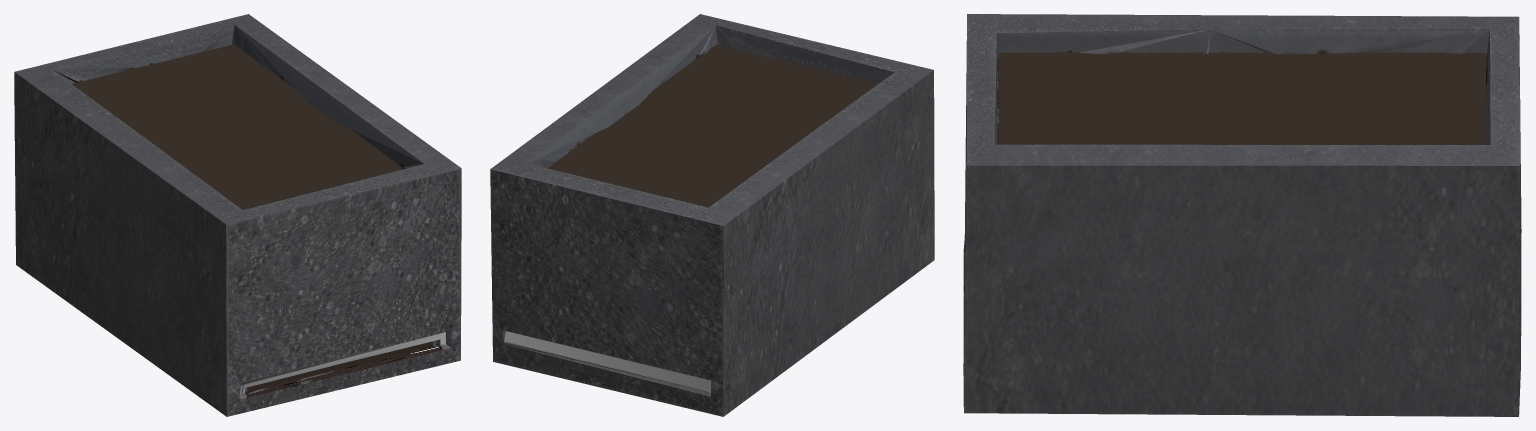
Rendered from midori_2050_planter.glb.
The picture shows the model from 3 angles, left to right: view 1: azimuth 30°, elevation 25°; view 2: azimuth 150°, elevation 25°; view 3: azimuth 270°, elevation 25°; orthographic projection. The views are drawn at different scales.
Visible parts, largest first — view 1: Midori2050PlanterMeshyBody, MidoriPlanterSoil, MidoriPlanterLightDiffuser; view 2: Midori2050PlanterMeshyBody, MidoriPlanterSoil; view 3: Midori2050PlanterMeshyBody, MidoriPlanterSoil.
Part boxes in pixels (<box>): Midori2050PlanterMeshyBody: <box>14,14,461,416</box>; MidoriPlanterSoil: <box>72,44,402,209</box>; MidoriPlanterLightDiffuser: <box>247,341,432,391</box>; Midori2050PlanterMeshyBody: <box>490,14,934,416</box>; MidoriPlanterSoil: <box>547,44,877,207</box>; Midori2050PlanterMeshyBody: <box>963,14,1521,416</box>; MidoriPlanterSoil: <box>999,52,1485,144</box>.
Bounding box in the file's own units: 0.7 × 0.56 × 1.1.
2 materials, 1 textured.
